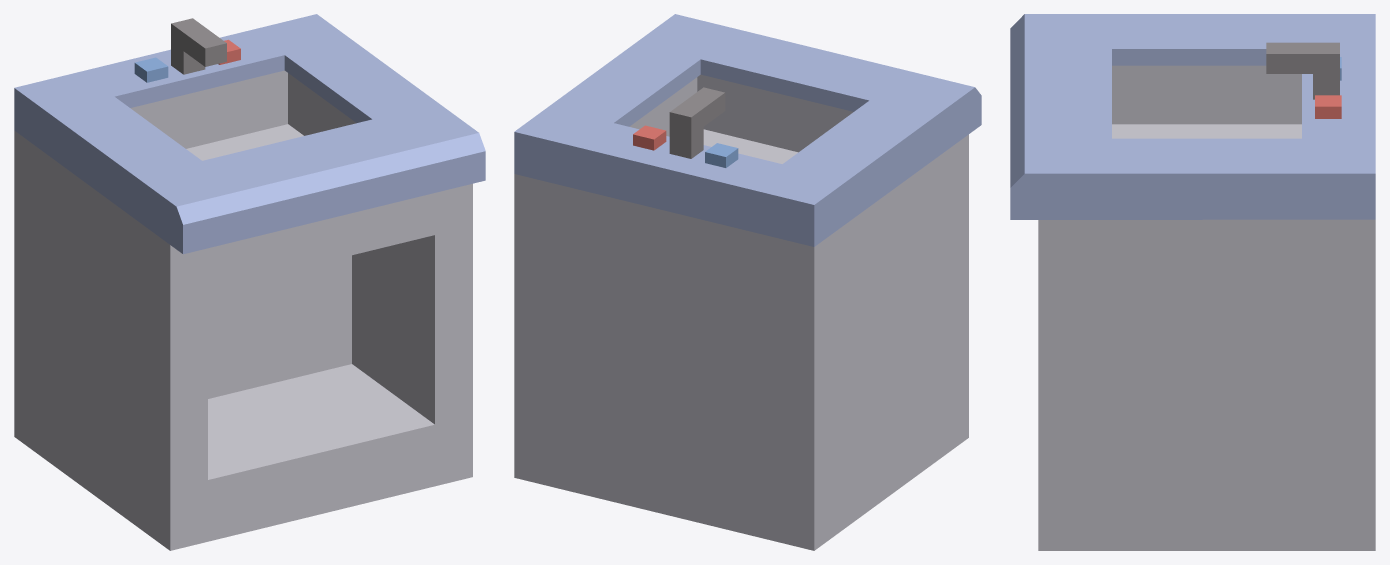
File: cupboard_bottom_sink.fbx
The picture shows the model from 3 angles, left to right: view 1: azimuth 30°, elevation 25°; view 2: azimuth 150°, elevation 25°; view 3: azimuth 270°, elevation 25°; orthographic projection. The views are drawn at different scales.
Parts seen in each view (by area): view 1: Cube.081; view 2: Cube.081; view 3: Cube.081.
Part boxes in pixels (x1,y1,x2,y2): Cube.081: [14, 14, 485, 550]; Cube.081: [514, 14, 981, 550]; Cube.081: [1010, 14, 1375, 550].
Size of the model in its own units: 200 by 247 by 193.
